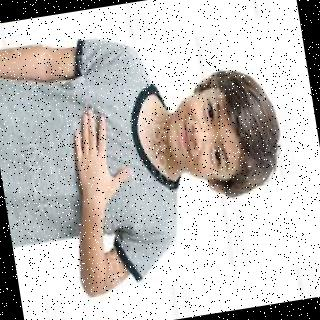Please: (64, 96, 142, 218)
